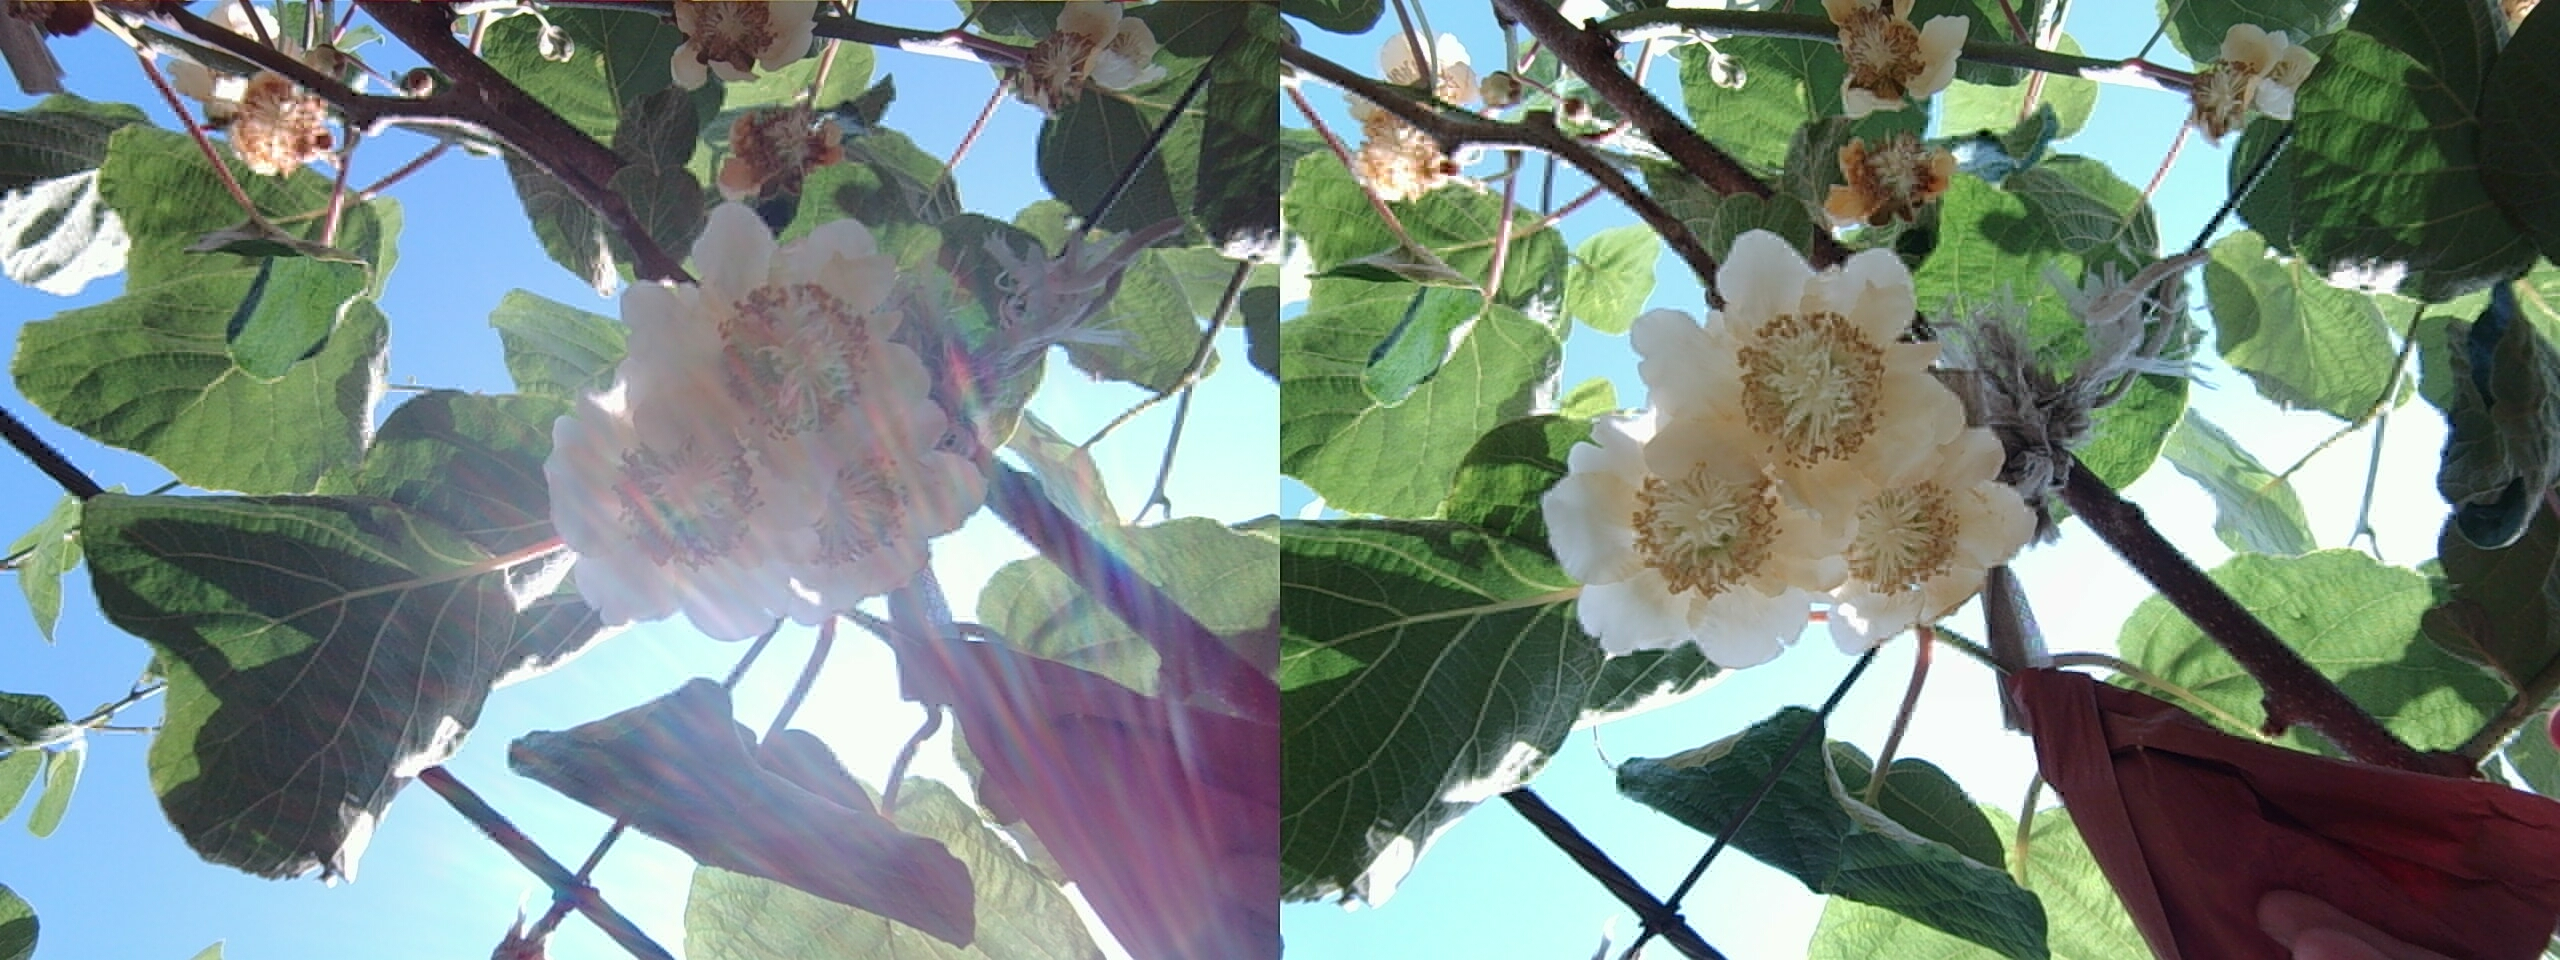flower: (553, 225, 955, 635), (1673, 243, 1961, 500), (1554, 410, 1843, 660), (1794, 442, 2038, 642), (1804, 114, 1959, 261), (1829, 8, 1966, 101)
